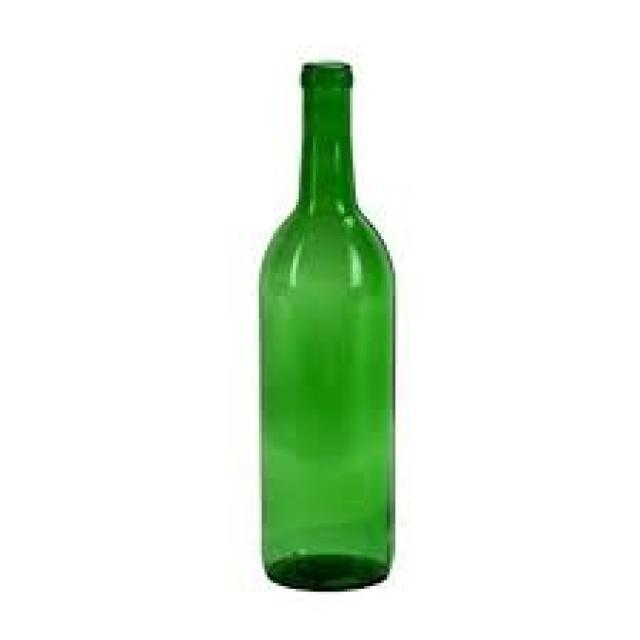glass: (259, 60, 392, 589)
